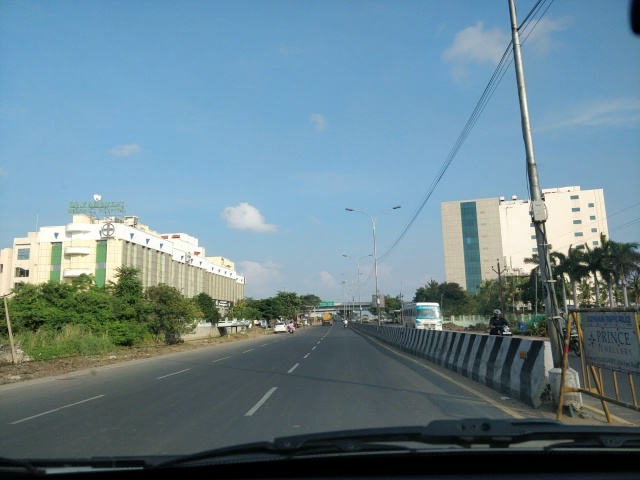bus: (398, 301, 447, 339)
car: (272, 320, 289, 334)
motorbike: (485, 306, 517, 357), (341, 314, 352, 331), (288, 319, 297, 336)
truck: (320, 312, 335, 327)
